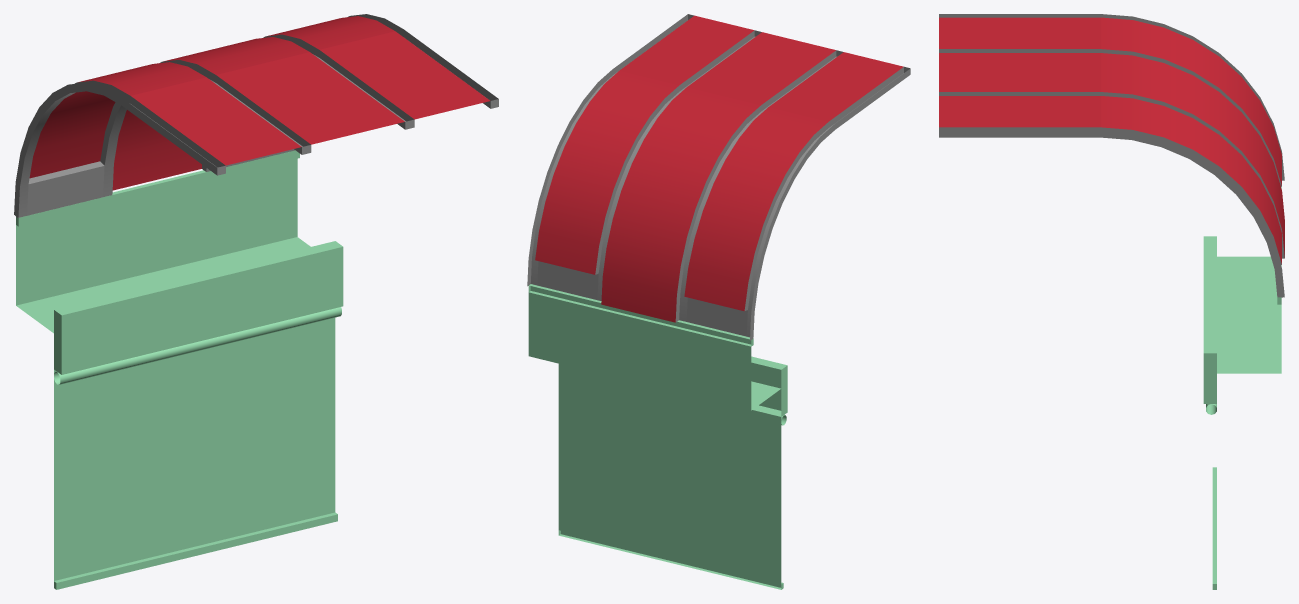
Rendered from Wall_Courtyard_Resized.FBX.
3 renders of one model, left to right at view 1: azimuth 30°, elevation 25°; view 2: azimuth 150°, elevation 25°; view 3: azimuth 270°, elevation 25°, orthographic. The views are drawn at different scales.
Parts seen in each view (by area): view 1: Plane002, roof_courtyard, Cylinder002; view 2: roof_courtyard, Plane002; view 3: roof_courtyard, Plane002.
Boxes of the visible parts, x1,y1,x2,y2 form: Plane002: [16, 150, 343, 589]; roof_courtyard: [14, 14, 498, 217]; Cylinder002: [54, 307, 341, 384]; roof_courtyard: [527, 14, 910, 340]; Plane002: [528, 284, 787, 589]; roof_courtyard: [939, 14, 1284, 297]; Plane002: [1203, 187, 1281, 589].
Size of the model in its own units: 4.51 by 8.26 by 5.64.
